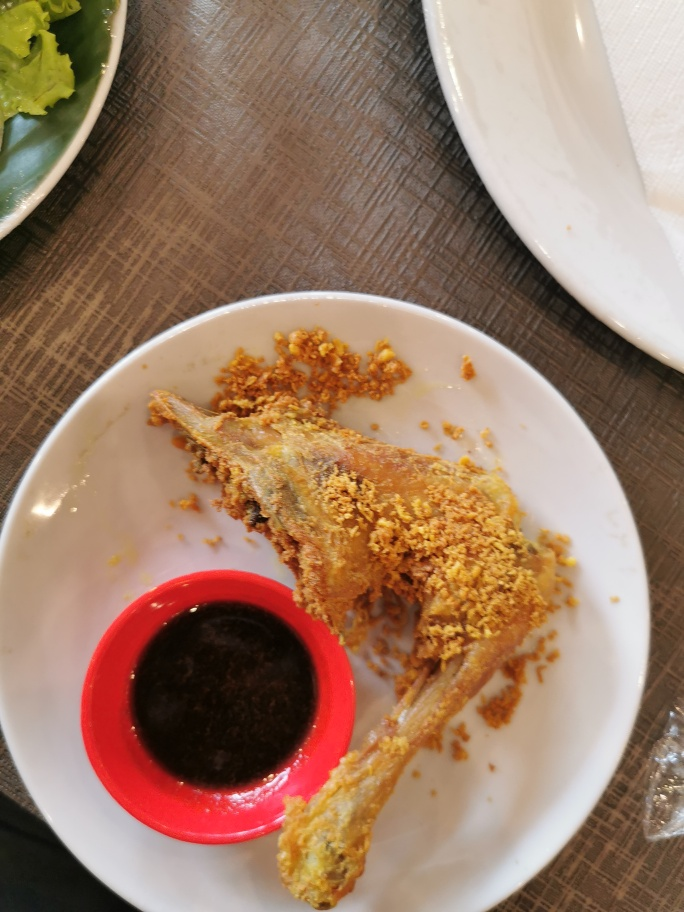ayam goreng: (143, 384, 558, 903)
kecap: (68, 573, 355, 840)
